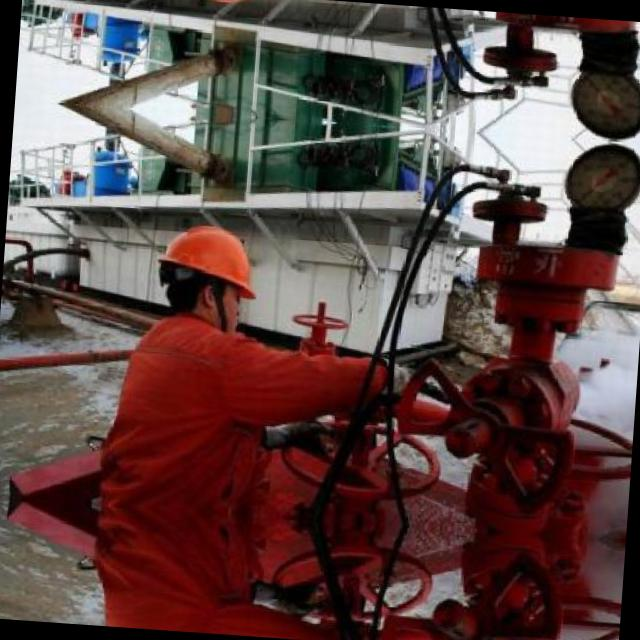helmet: (142, 210, 264, 336)
